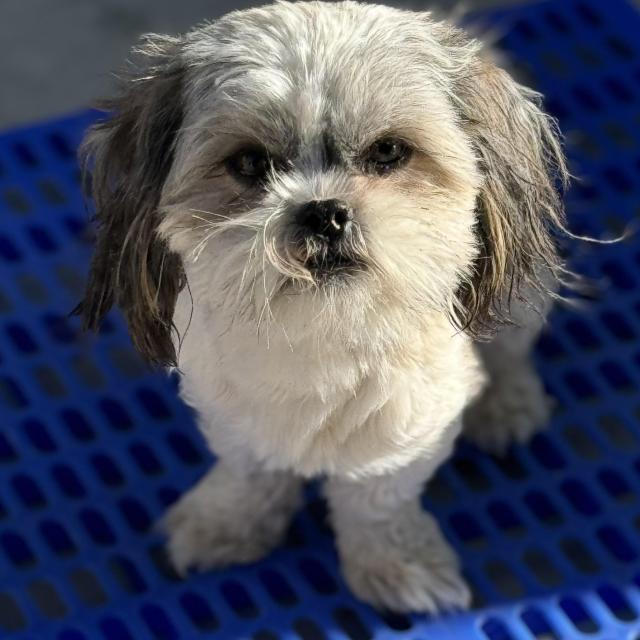shih_tzu_dog: (57, 7, 588, 399)
